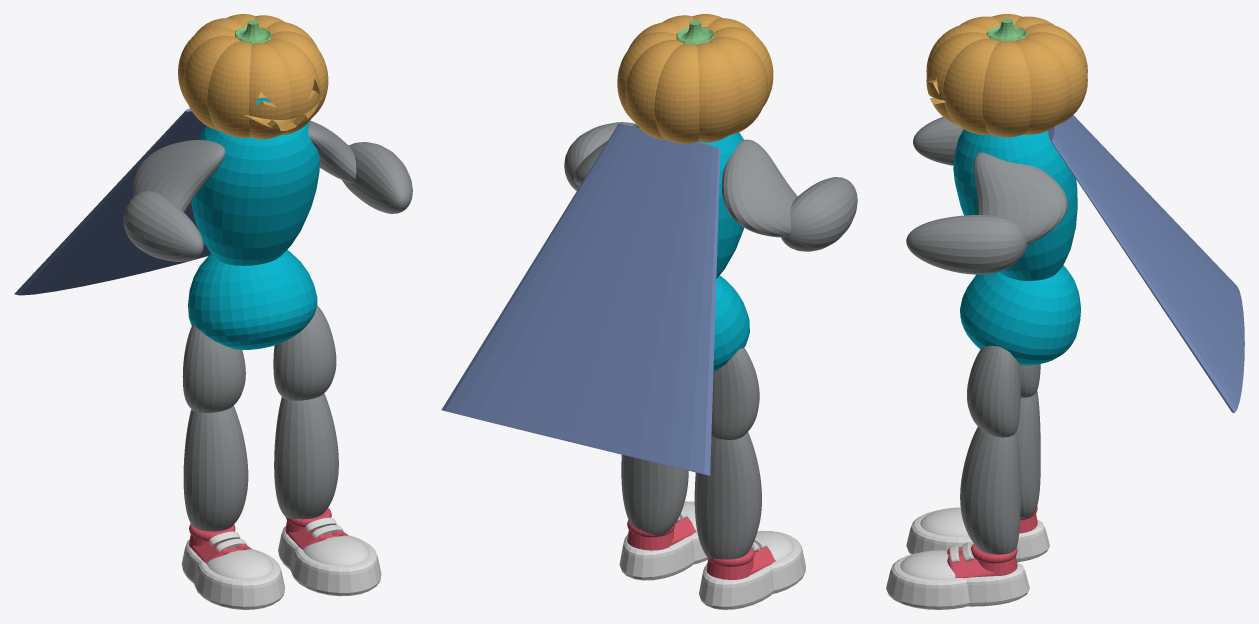
File: lukepumpkin.glb
3 renders of one model, left to right at view 1: azimuth 30°, elevation 25°; view 2: azimuth 150°, elevation 25°; view 3: azimuth 270°, elevation 25°, orthographic. The views are drawn at different scales.
Parts seen in each view (by area): view 1: Mesh_Mesh_head_geo.001_lambert2SG.001; view 2: Mesh_Mesh_head_geo.001_lambert2SG.001; view 3: Mesh_Mesh_head_geo.001_lambert2SG.001.
Part boxes in pixels (left/top/right/bottom): Mesh_Mesh_head_geo.001_lambert2SG.001: left=14, top=14, right=412, bottom=609; Mesh_Mesh_head_geo.001_lambert2SG.001: left=441, top=14, right=857, bottom=609; Mesh_Mesh_head_geo.001_lambert2SG.001: left=886, top=14, right=1244, bottom=609.
Bounding box in the file's own units: 46 × 90 × 53.34.
